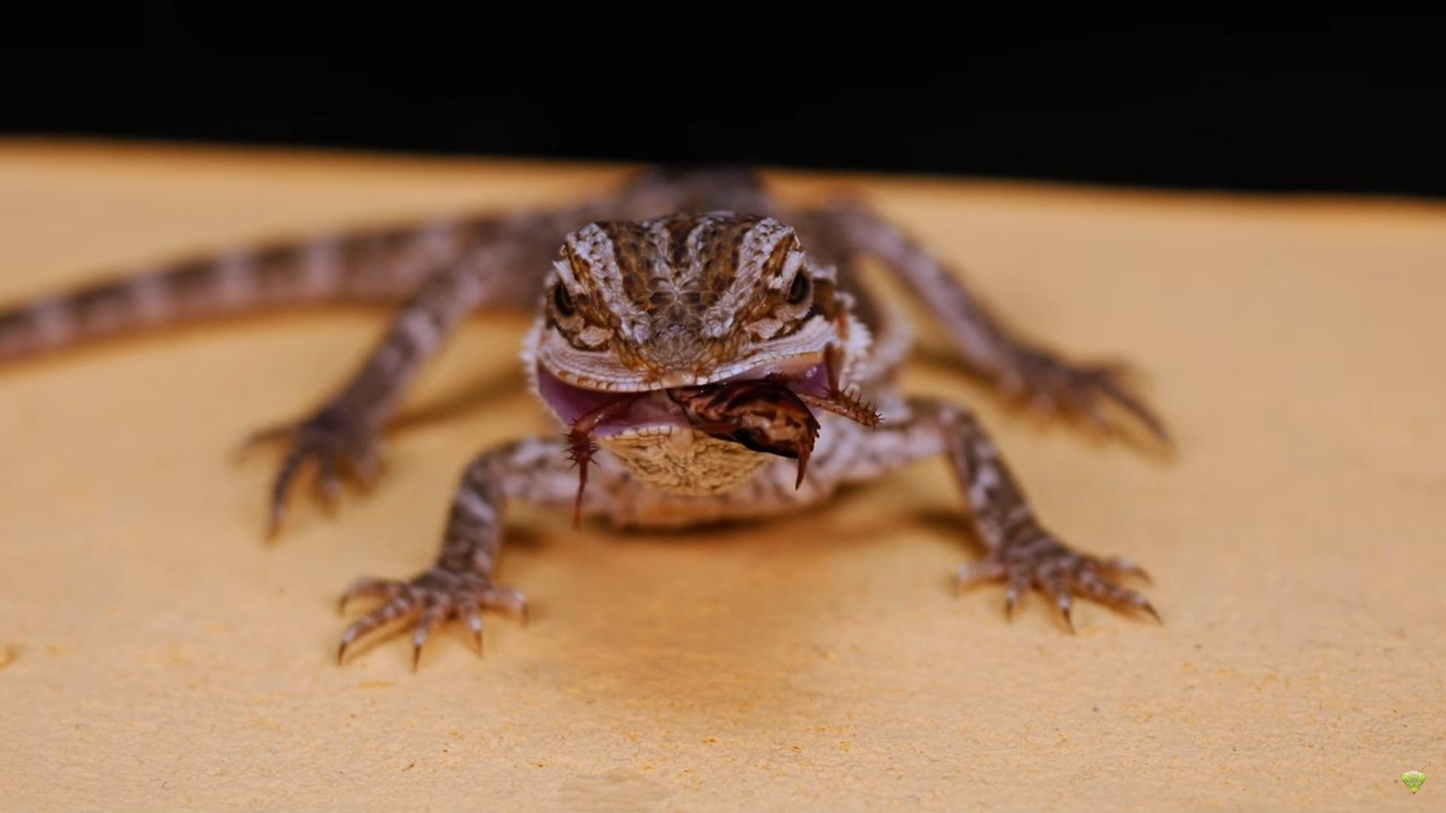cockroach: (564, 379, 903, 540)
lizard: (322, 207, 1163, 697)
